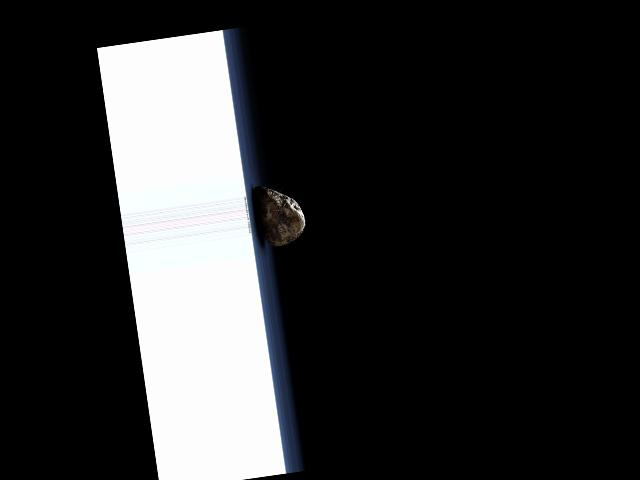beet: (253, 181, 307, 249)
